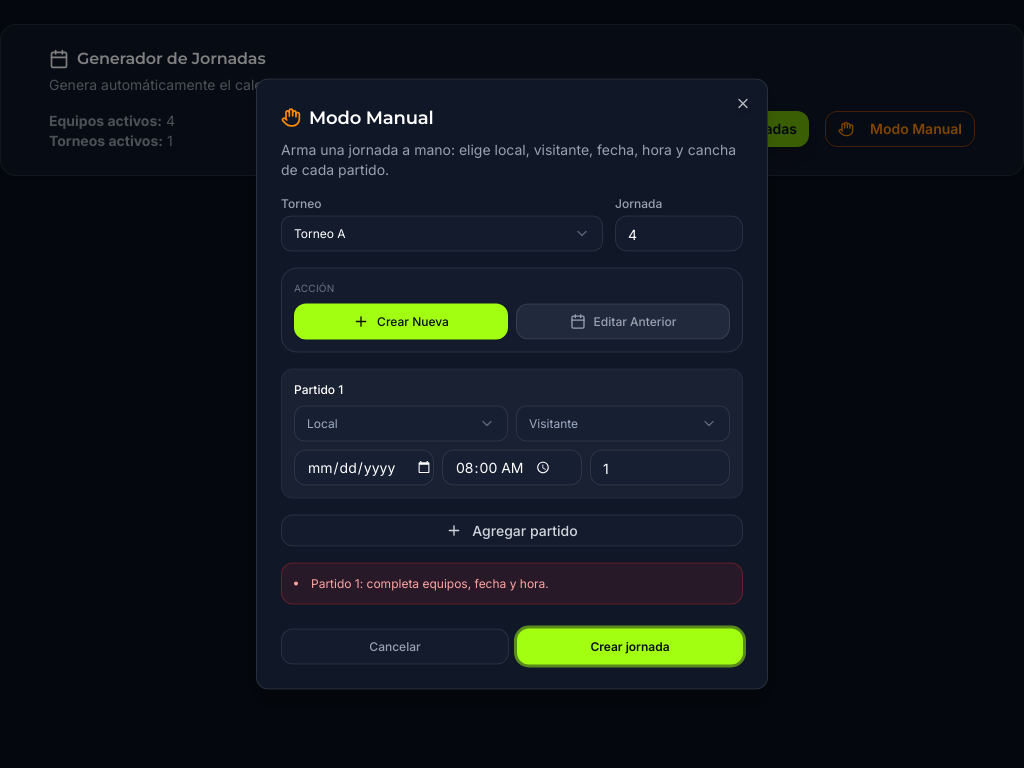
Test: Modo Manual › does not send anything while a match is incomplete or plays itself
Earlier steps of the test are not shown.
Check: the list item "Partido 1: completa equipos, fecha y hora." is shown, box [311,576,549,590]
Click the dropdown named "Local (partido 1)".
click(401, 424)  # box [294,406,508,442]
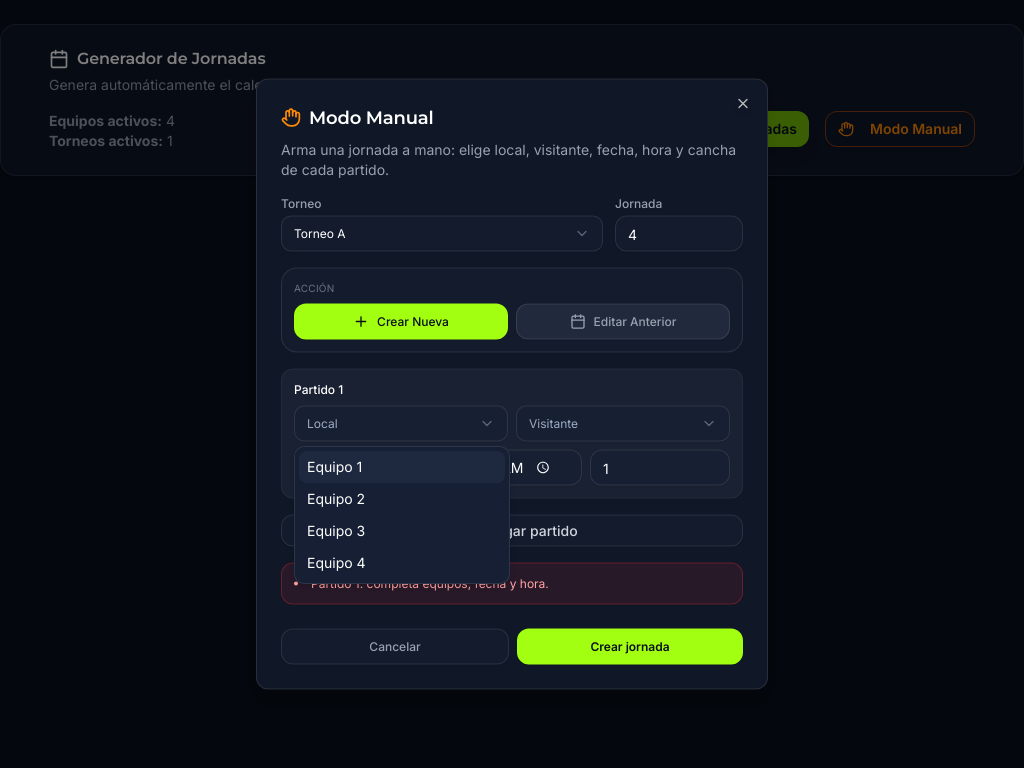
Click the option "Equipo 1".
click(402, 467)  # box [299,451,505,483]
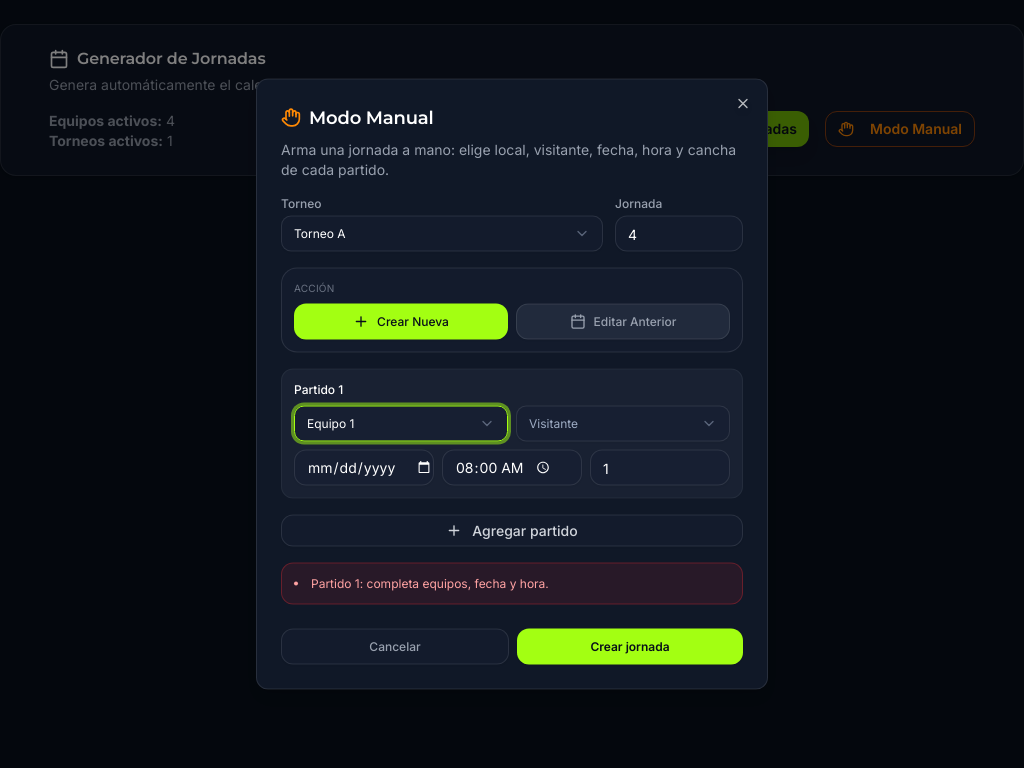
Click the dropdown named "Visitante (partido 1)".
click(623, 424)  # box [516,406,730,442]
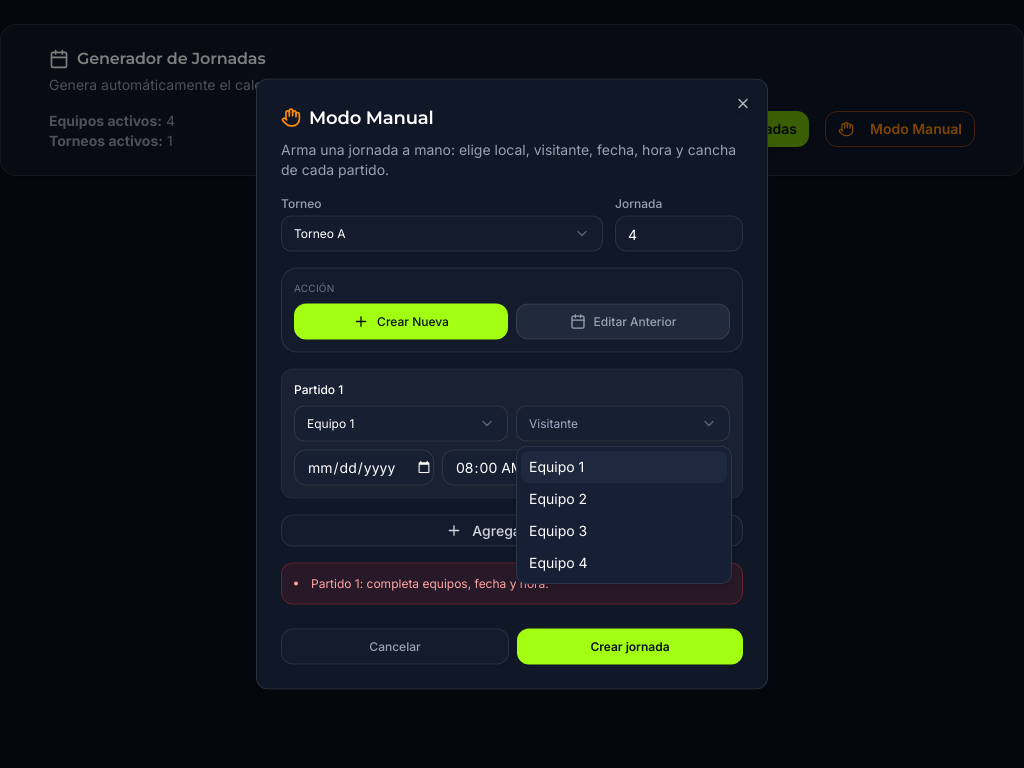
Click the option "Equipo 1".
click(624, 467)  # box [521,451,727,483]
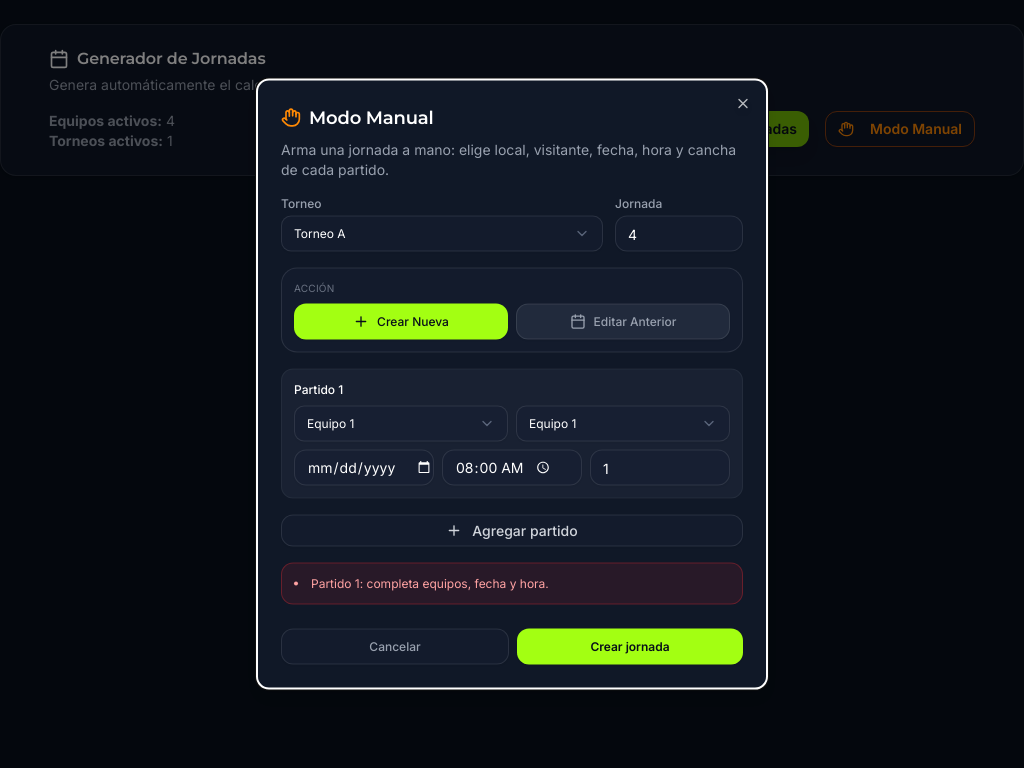
Type "2024-03-02" into the date field named "Fecha (partido 1)".
click(364, 468); type("2024-03-02")  # box [294,450,434,486]
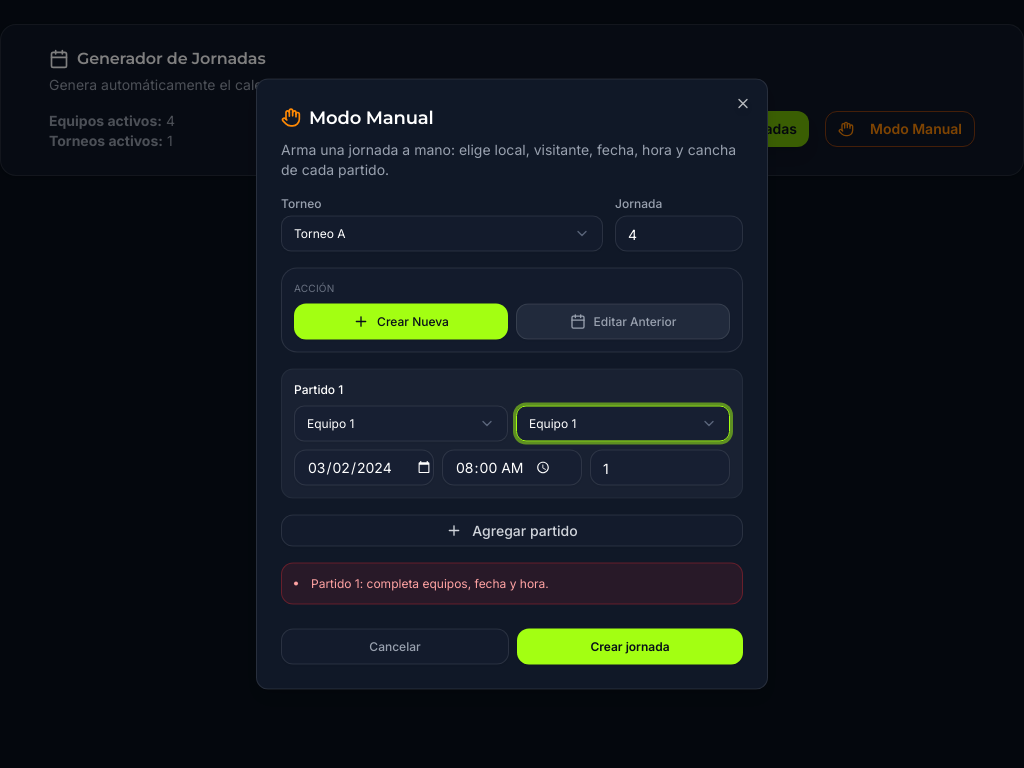
Click the button "Crear jornada".
click(630, 646)  # box [517,628,743,664]
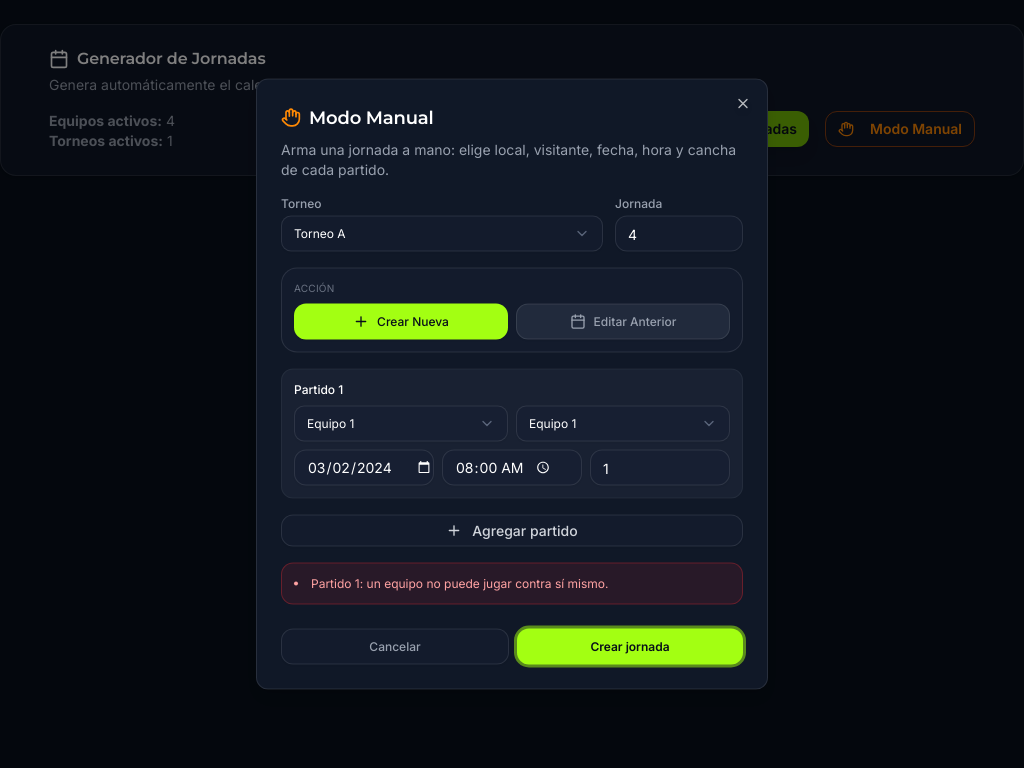
Check: the list item "Partido 1: un equipo no puede jugar contra sí mismo." is shown, box [311,576,608,590]
